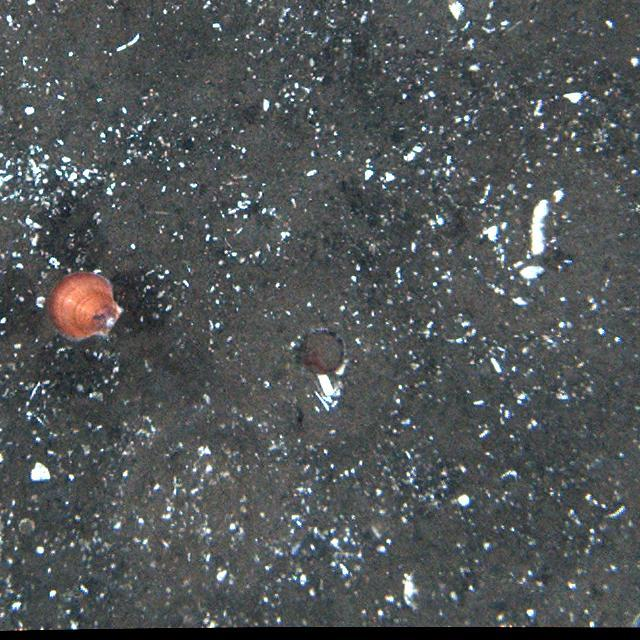scallop: (44, 271, 123, 341)
